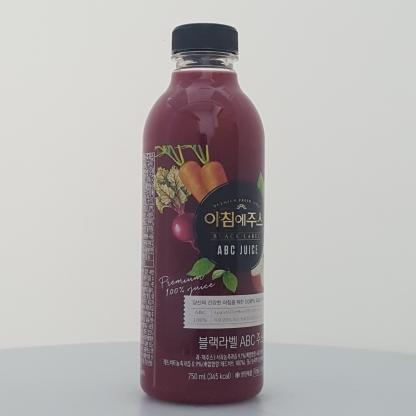--------------ABC--750ML: (140, 23, 265, 405)
